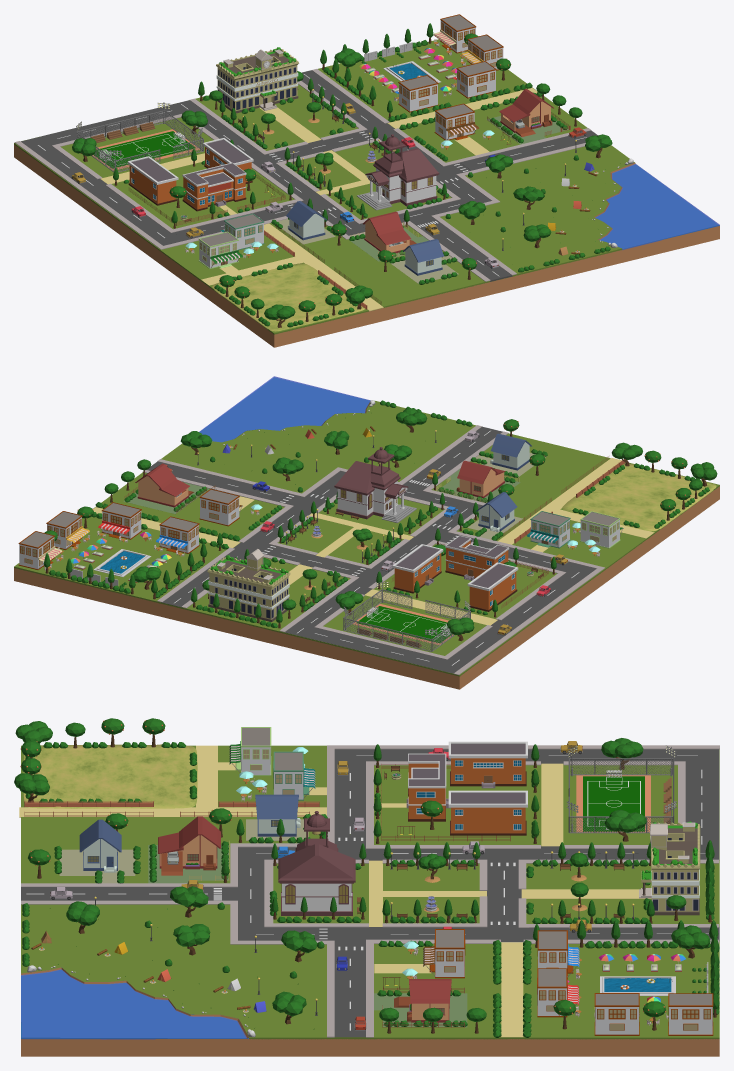
File: city-white.glb
The picture shows the model from 3 angles, top to bottom: view 1: azimuth 30°, elevation 25°; view 2: azimuth 150°, elevation 25°; view 3: azimuth 270°, elevation 25°; orthographic projection. The views are drawn at different scales.
Parts seen in each view (by area): view 1: Plane.001, Cube.003, Plane.103, Plane.029, Plane.002, Plane.161, Plane.004, Cylinder.007, Plane.011, Plane.073, Cube.009, Cube.001 (+11 smaller); view 2: Plane.001, Plane.103, Cube.003, Plane.029, Plane.002, Plane.161, Plane.004, Cylinder.007, Plane.073, Plane.011, Torus.002, Cube.009 (+11 smaller); view 3: Plane.001, Cube.003, Plane.103, Plane.002, Plane.029, Plane.004, Plane.011, Plane.161, Cylinder.007, Plane.073, Torus.002, Cube.001 (+18 smaller).
Boxes of the visible parts, x1,y1,x2,y2 form: Plane.001: [14, 39, 635, 334]; Cube.003: [72, 23, 612, 327]; Plane.103: [21, 49, 597, 281]; Plane.029: [14, 144, 719, 347]; Plane.002: [14, 69, 590, 281]; Plane.161: [199, 14, 503, 268]; Plane.004: [131, 61, 719, 249]; Cylinder.007: [367, 150, 719, 249]; Plane.011: [100, 88, 537, 311]; Plane.073: [212, 263, 364, 331]; Cube.009: [216, 47, 298, 113]; Cube.001: [349, 89, 568, 261]; Plane.001: [14, 401, 719, 676]; Plane.103: [146, 426, 596, 673]; Cube.003: [43, 400, 717, 634]; Plane.029: [14, 486, 719, 689]; Plane.002: [143, 425, 604, 675]; Plane.161: [18, 489, 623, 569]; Plane.004: [93, 377, 514, 605]; Cylinder.007: [199, 376, 370, 536]; Plane.073: [562, 463, 716, 531]; Plane.011: [93, 458, 654, 625]; Torus.002: [120, 535, 518, 639]; Cube.009: [207, 549, 290, 621]; Plane.001: [21, 745, 719, 1039]; Cube.003: [14, 718, 719, 1037]; Plane.103: [21, 749, 719, 1037]; Plane.002: [21, 745, 719, 1037]; Plane.029: [21, 1039, 719, 1056]; Plane.004: [21, 760, 675, 1038]; Plane.011: [19, 745, 651, 1037]; Plane.161: [230, 728, 713, 1035]; Cylinder.007: [21, 896, 437, 1039]; Plane.073: [23, 744, 197, 808]; Torus.002: [408, 741, 654, 989]; Cube.001: [148, 816, 467, 1027].
Bounding box in the file's own units: 71.44 × 11.63 × 72.07.
126 materials, 4 textured.
